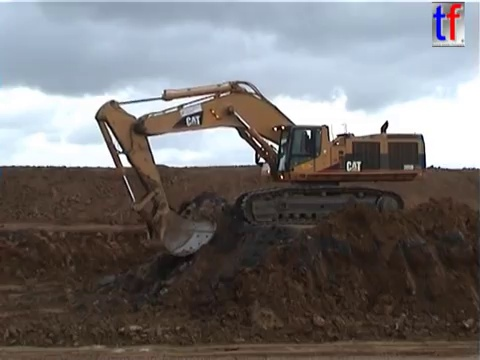excavator: (92, 78, 429, 260)
